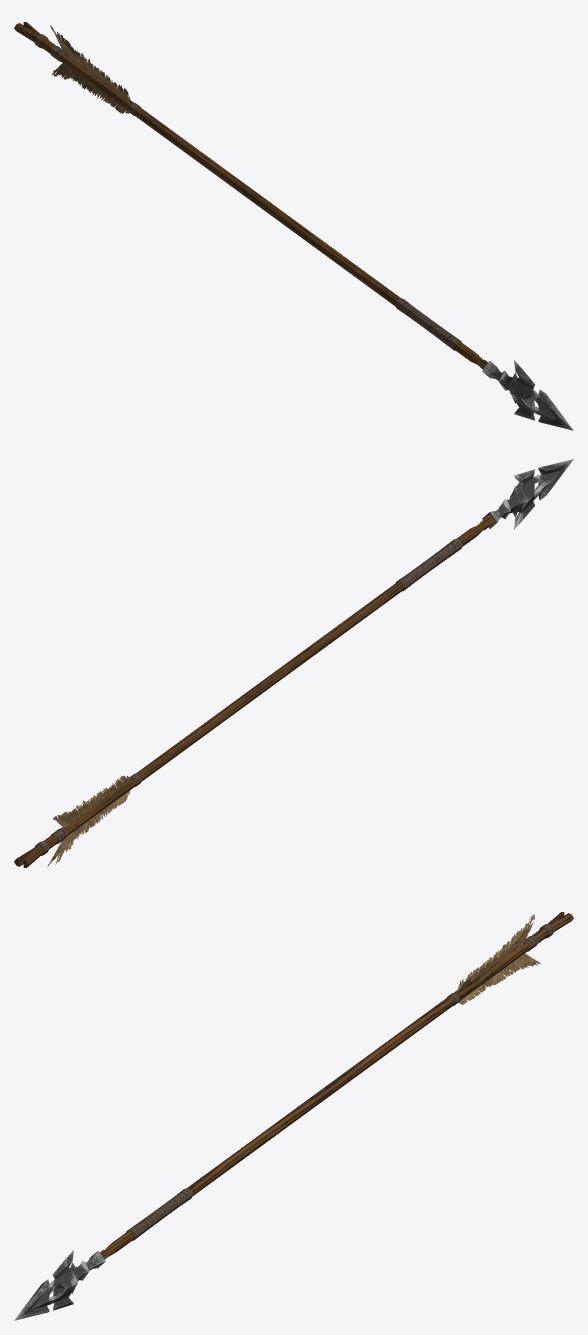
File: WindWarriorArrow.fbx
3 views of the same model, one above another, from view 1: azimuth 30°, elevation 25°; view 2: azimuth 150°, elevation 25°; view 3: azimuth 330°, elevation 25° (orthographic).
Visible parts, largest first — view 1: Wind Warrior Arrow.Shape; view 2: Wind Warrior Arrow.Shape; view 3: Wind Warrior Arrow.Shape.
Boxes of the visible parts, x1,y1,x2,y2 form: Wind Warrior Arrow.Shape: (14, 22, 573, 430); Wind Warrior Arrow.Shape: (14, 459, 573, 867); Wind Warrior Arrow.Shape: (14, 912, 573, 1320).
Size of the model in its own units: 1.63 by 5.13 by 85.
1 material, 1 textured.
